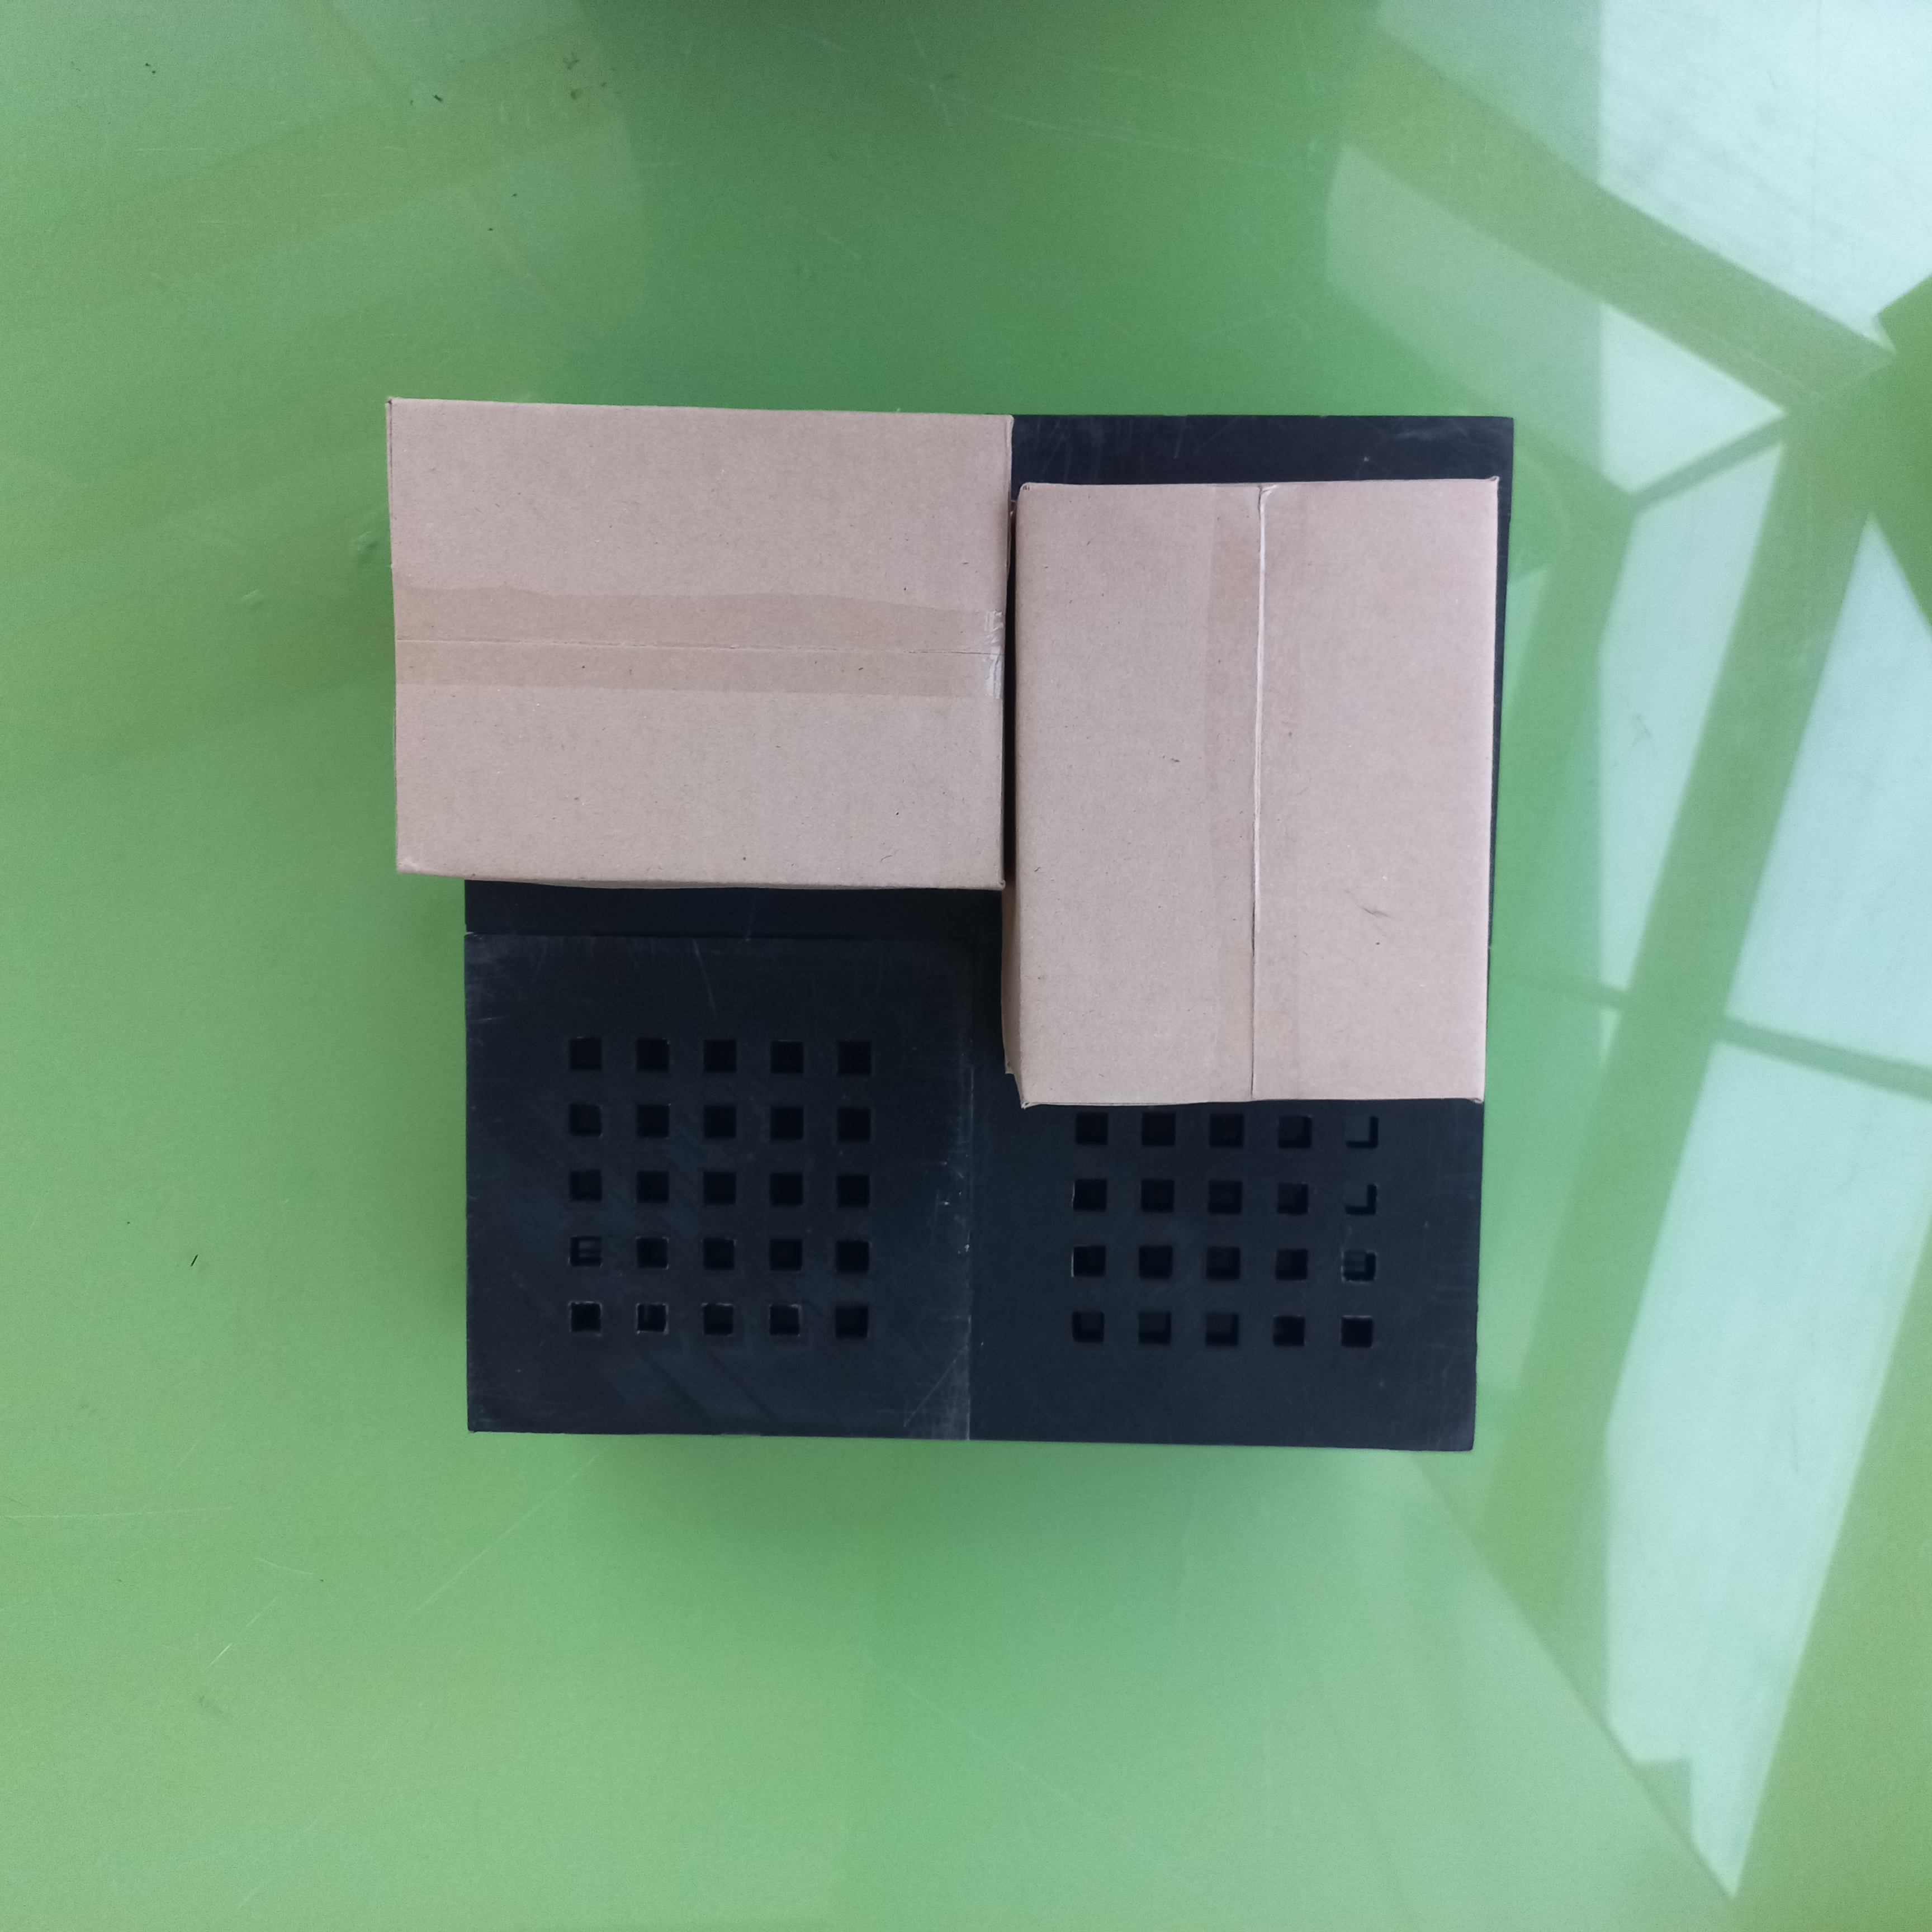box: (1003, 465, 1500, 1127), (377, 393, 1010, 893)
